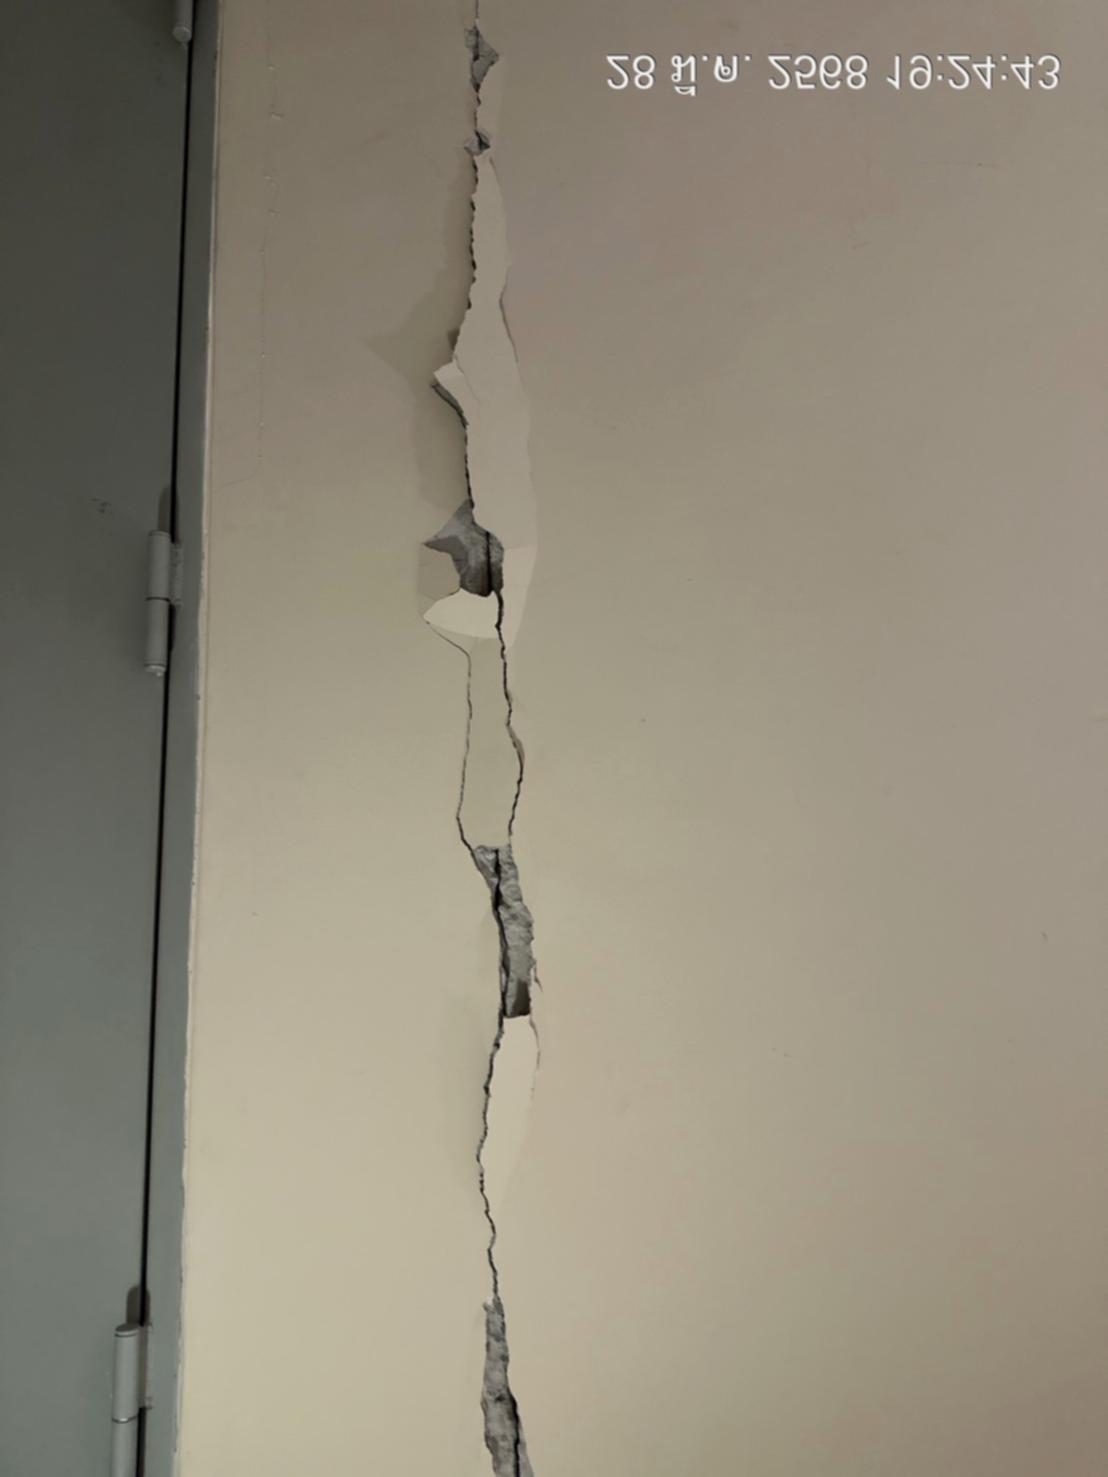High: (363, 6, 609, 1477)
